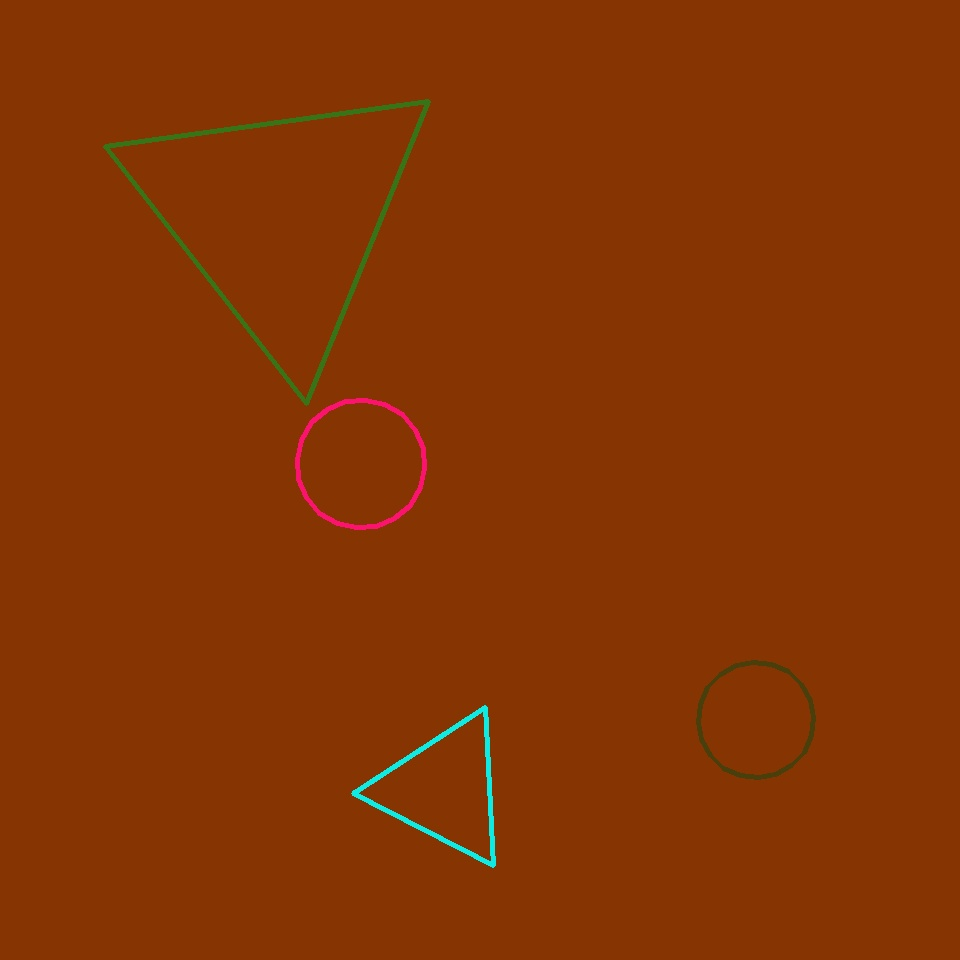circle: (118, 66, 442, 368), (374, 710, 514, 868)
triangle: (298, 400, 424, 528), (698, 662, 814, 778)
